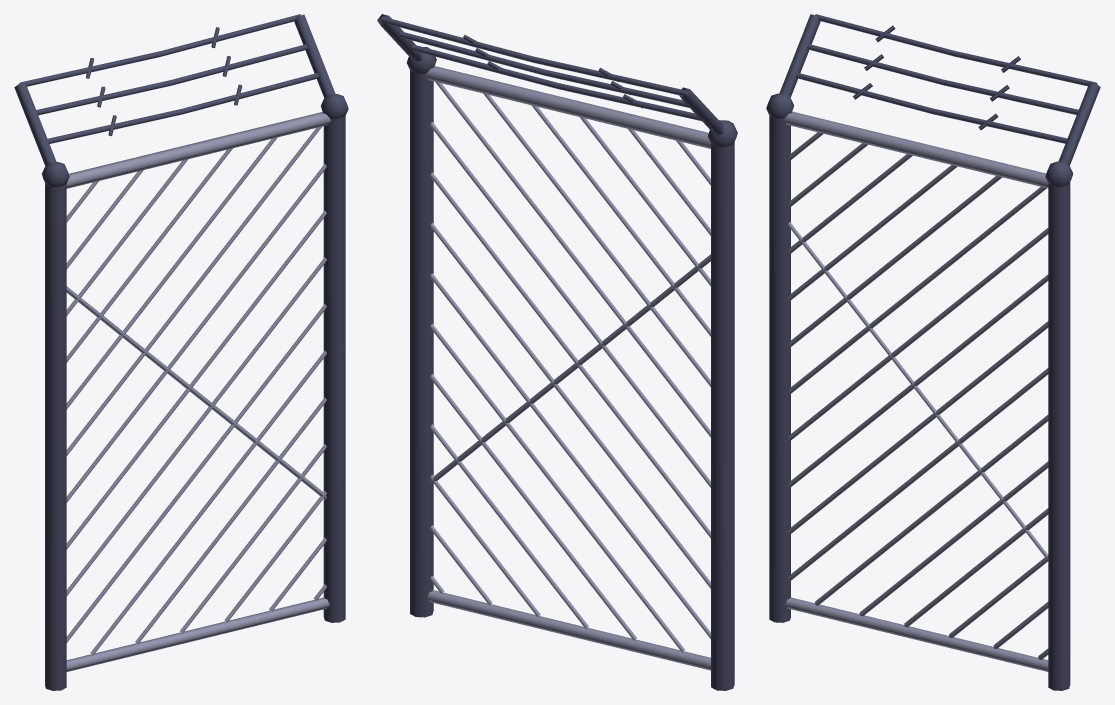
File: tow_fence.glb
3 renders of one model, left to right at view 1: azimuth 30°, elevation 25°; view 2: azimuth 150°, elevation 25°; view 3: azimuth 330°, elevation 25°, orthographic. The views are drawn at different scales.
Parts seen in each view (by area): view 1: Fence; view 2: Fence; view 3: Fence.
Part boxes in pixels (box(x1,y1,x2,y2)): Fence: box(14, 14, 348, 690); Fence: box(377, 14, 737, 690); Fence: box(766, 14, 1100, 690).
Bounding box in the file's own units: 1.09 × 1.99 × 0.2905.
